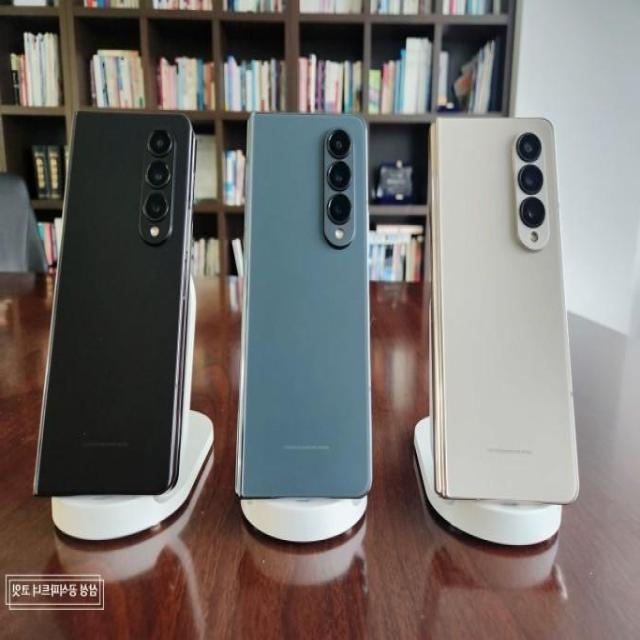mobile: (32, 110, 198, 498), (429, 118, 579, 498), (235, 112, 370, 498)
